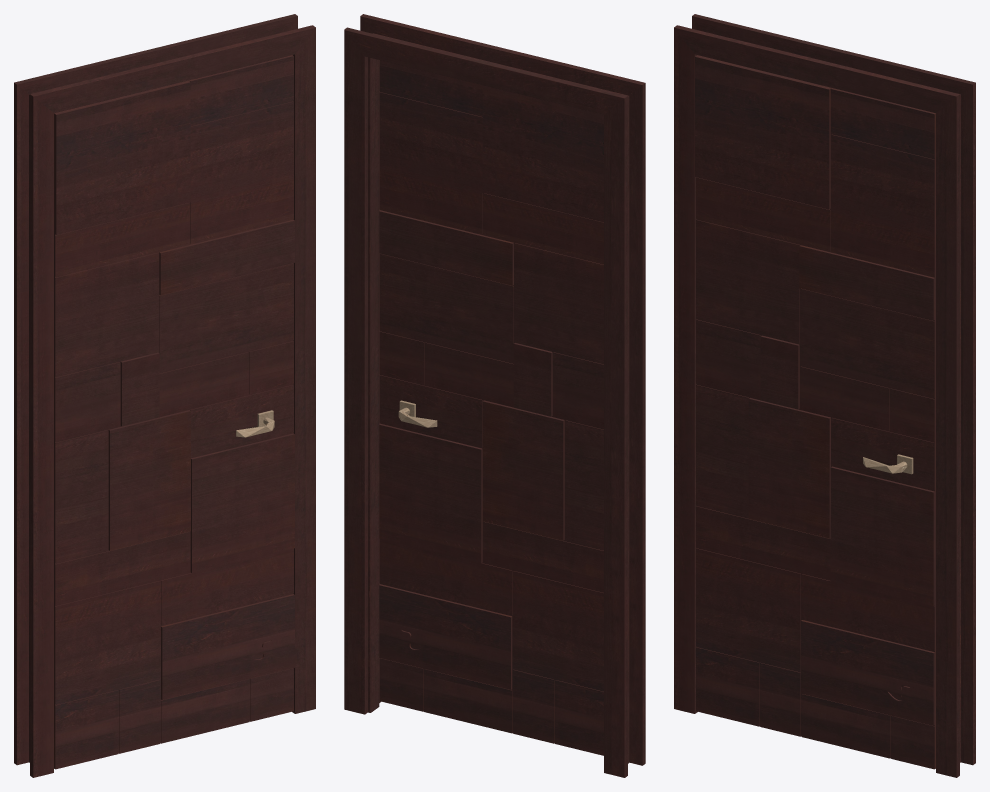
The model's file is Door Stradevari  DORIAN 2016 N300918.obj.
3 renders of one model, left to right at view 1: azimuth 30°, elevation 25°; view 2: azimuth 150°, elevation 25°; view 3: azimuth 330°, elevation 25°, orthographic.
Visible parts, largest first — view 1: Box063, Object1070, Object1083, Object1085, Object1069, Object1084, Object1082, HANDLE015; view 2: Box063, Object1070, Object1083, Object1085, Object1069, Object1084, Object1082, HANDLE015; view 3: Box063, Object1070, Object1083, Object1085, Object1069, Object1084, Object1082, HANDLE015.
Part boxes in pixels (box(x1,y1,x2,y2)): Box063: box(54, 55, 293, 769); Object1070: box(14, 16, 315, 777); Object1083: box(56, 82, 294, 573); Object1085: box(160, 219, 294, 699); Object1069: box(14, 14, 315, 112); Object1084: box(109, 410, 190, 550); Object1082: box(120, 352, 162, 699); HANDLE015: box(236, 410, 274, 437); Box063: box(379, 60, 603, 755); Object1070: box(344, 17, 645, 777); Object1083: box(379, 85, 603, 563); Object1085: box(379, 210, 513, 689); Object1069: box(344, 14, 644, 114); Object1084: box(482, 400, 563, 540); Object1082: box(511, 343, 552, 689); HANDLE015: box(398, 400, 437, 427); Box063: box(695, 55, 935, 769); Object1070: box(674, 16, 975, 777); Object1083: box(695, 57, 934, 606); Object1085: box(799, 245, 934, 725); Object1069: box(674, 14, 975, 112); Object1084: box(748, 398, 830, 538); Object1082: box(760, 335, 799, 409); HANDLE015: box(863, 454, 913, 474).
Size of the model in its own units: 9.48 by 21.84 by 1.77.
